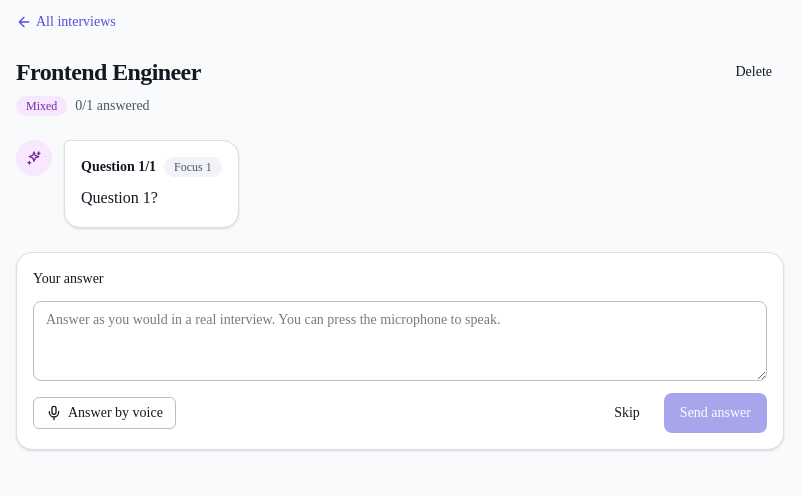
Test: InterviewSessionView › waits for the recording to stop before sending, so the last spoken phrase is not lost
Type "I led the migration" into the text box at (400, 341), box top-left (33, 301), bottom-right (767, 381)
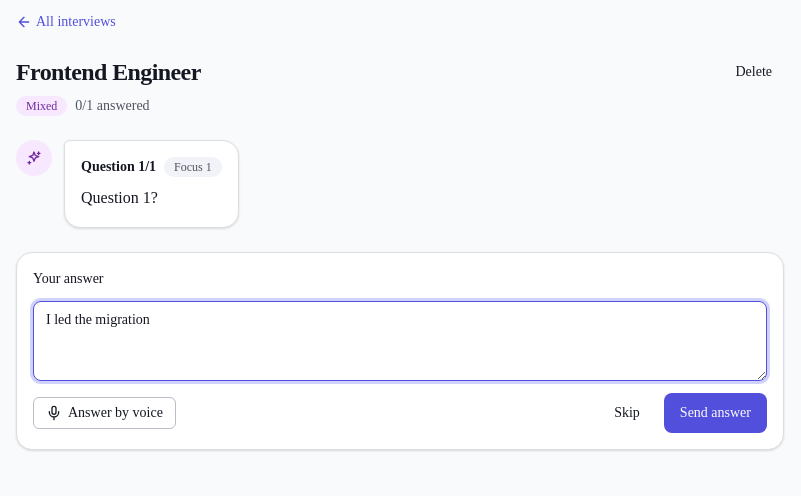
Click the button "Answer by voice" at (104, 413), box top-left (33, 397), bottom-right (176, 429)
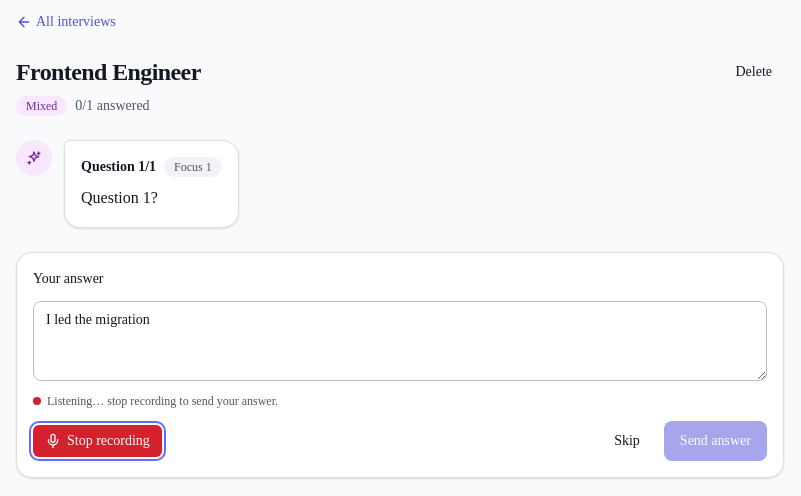
Now the button "Send answer" is disabled, box top-left (664, 421), bottom-right (767, 461)
Click the button "Stop recording" at (97, 441), box top-left (33, 425), bottom-right (162, 457)
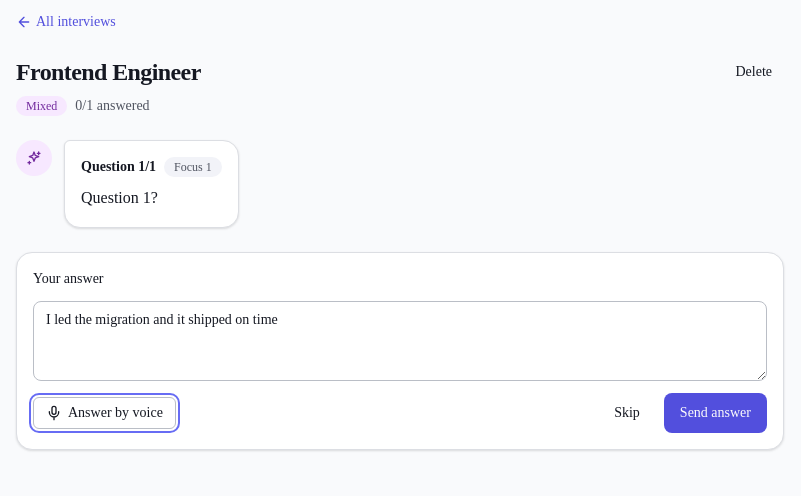
Now the text box holds "I led the migration and it shipped on time", box top-left (33, 301), bottom-right (767, 381)
Now the button "Send answer" is enabled, box top-left (664, 393), bottom-right (767, 433)
